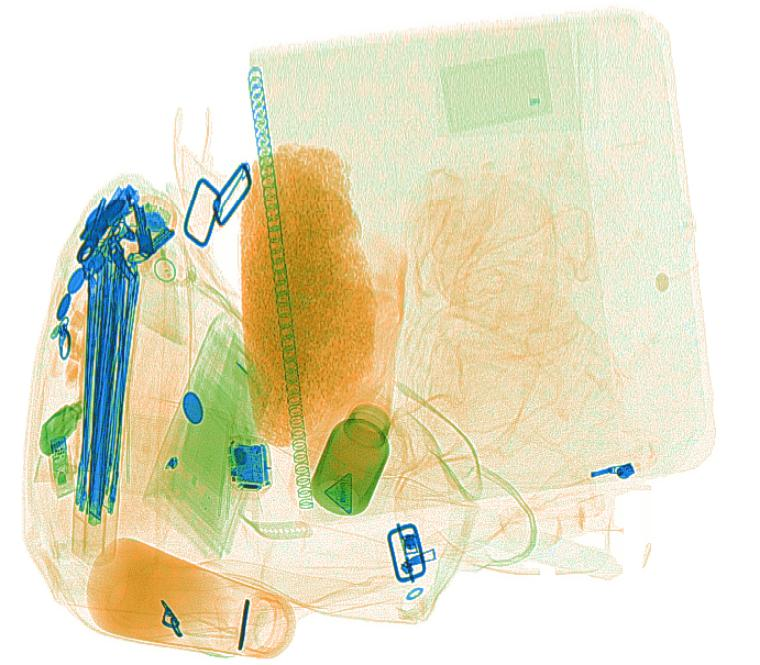USBFlashDisk: (44, 431, 79, 496)
knife: (226, 433, 316, 541)
